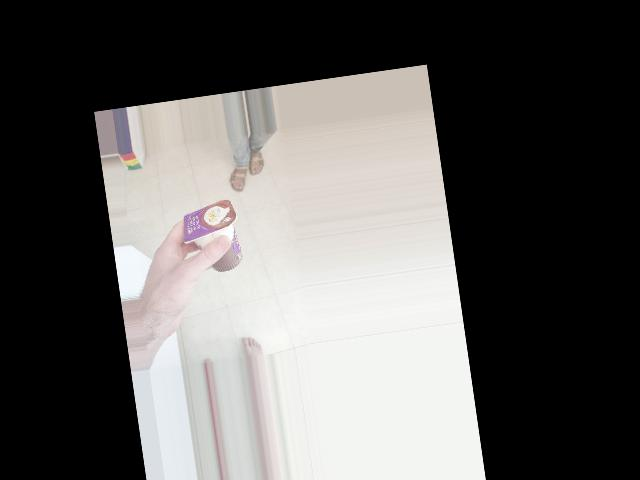milky: (181, 196, 245, 281)
